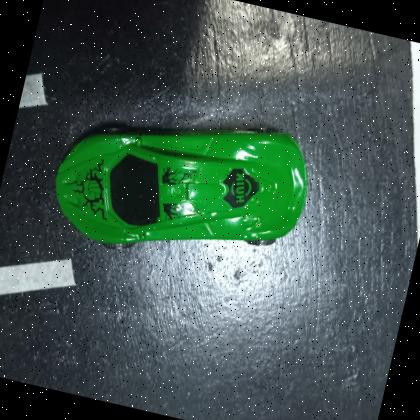Car: (39, 83, 323, 292)
